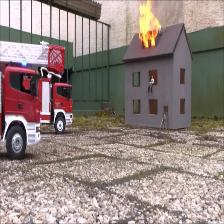fire: (138, 1, 160, 47)
